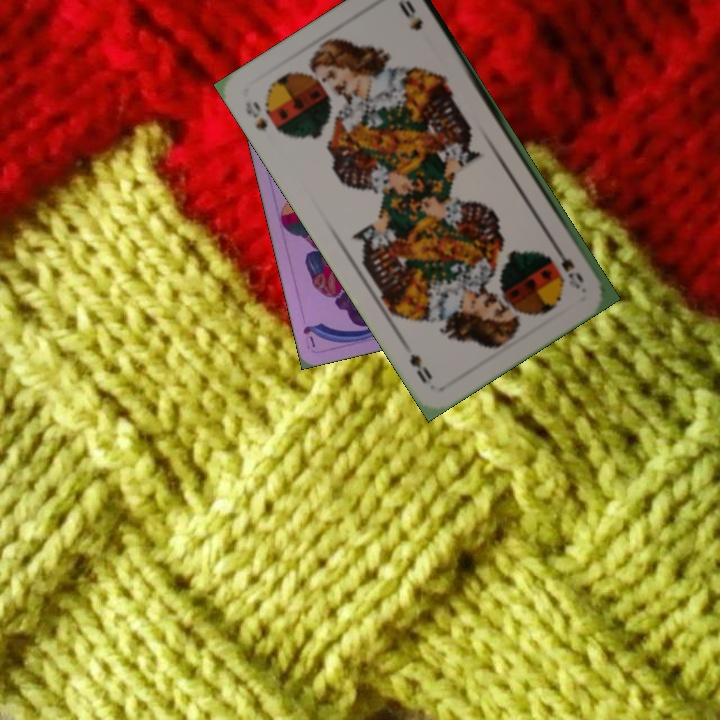SO: (549, 239, 587, 292), (241, 97, 271, 133)
